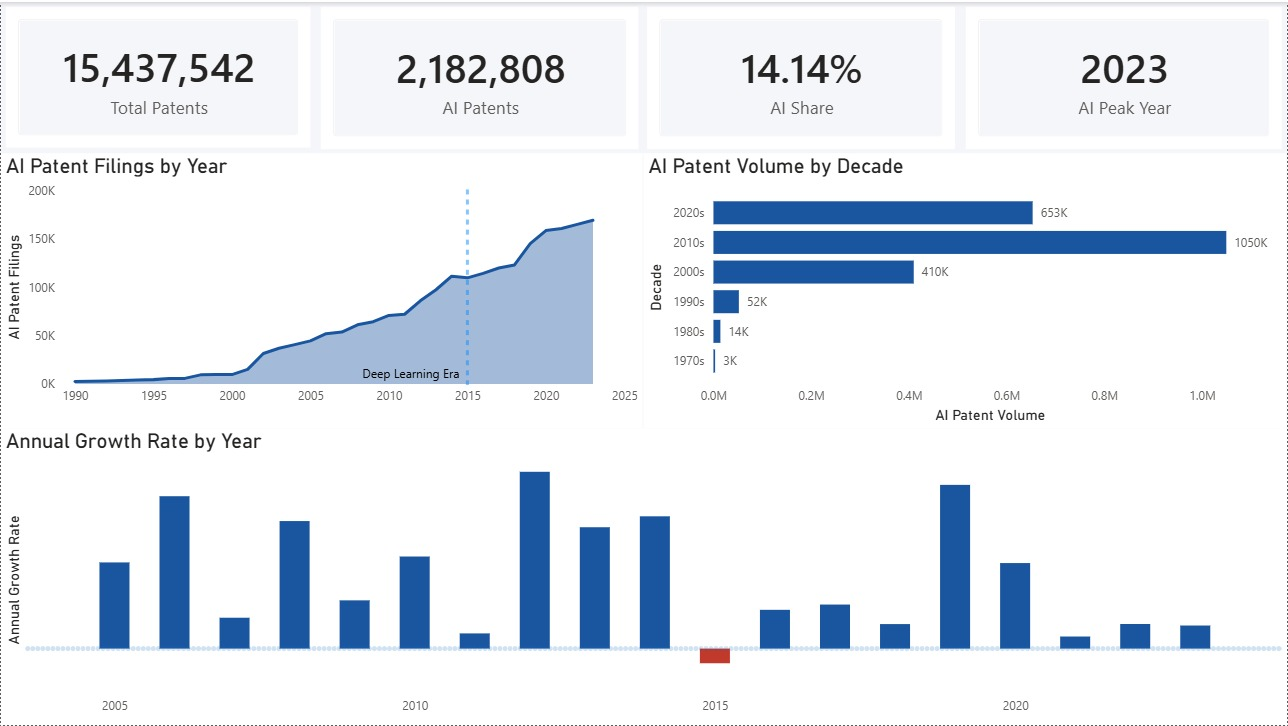

This screenshot's page, from the dashboard's own definition file:
{"tool":"powerbi","page":{"name":"The Big Picture","canvas":[1280,720],"ordinal":0},"visuals":[{"type":"actionButton","box":[0,0,100,40],"z":0},{"type":"cardVisual","fields":{"Data":["Min(00_key_stats.Column2)"]},"box":[5.7,0,307.9,151.1],"z":1000},{"type":"cardVisual","fields":{"Data":["Min(00_key_stats.Column2)"]},"box":[313.6,0,326.4,151.1],"z":2000},{"type":"cardVisual","fields":{"Data":["Min(00_key_stats.Column2)"]},"box":[638.6,0,316.4,151.1],"z":3000},{"type":"cardVisual","fields":{"Data":["Min(00_key_stats.Column2)"]},"box":[955,0,325,151.1],"z":4000},{"type":"lineChart","fields":{"Category":["01_yearly_totals.year"],"Y":["Sum(01_yearly_totals.ai_patents_86)"]},"box":[0,151.1,638.6,273.7],"z":5000},{"type":"clusteredBarChart","fields":{"Category":["05_decade_summary.decade"],"Y":["Sum(05_decade_summary.ai_patents)"]},"box":[640,151.1,640,273.7],"z":6000},{"type":"clusteredColumnChart","fields":{"Category":["01_yearly_totals.year"],"Y":["Sum(01_yearly_totals.yoy_growth)"]},"box":[0,424.8,1280,295.1],"z":7000}]}

Visuals, with their boxes in screenshot pixels (x1, y1, x2, y2), scaled from the page's 1280x720 canvas onto the 1288x726 screenshot:
actionButton: <region>0, 0, 101, 40</region>
cardVisual - Min(00_key_stats.Column2): <region>6, 0, 316, 152</region>
cardVisual - Min(00_key_stats.Column2): <region>316, 0, 644, 152</region>
cardVisual - Min(00_key_stats.Column2): <region>643, 0, 961, 152</region>
cardVisual - Min(00_key_stats.Column2): <region>961, 0, 1287, 152</region>
lineChart - 01_yearly_totals.year x Sum(01_yearly_totals.ai_patents_86): <region>0, 152, 643, 428</region>
clusteredBarChart - 05_decade_summary.decade x Sum(05_decade_summary.ai_patents): <region>644, 152, 1287, 428</region>
clusteredColumnChart - 01_yearly_totals.year x Sum(01_yearly_totals.yoy_growth): <region>0, 428, 1287, 725</region>
